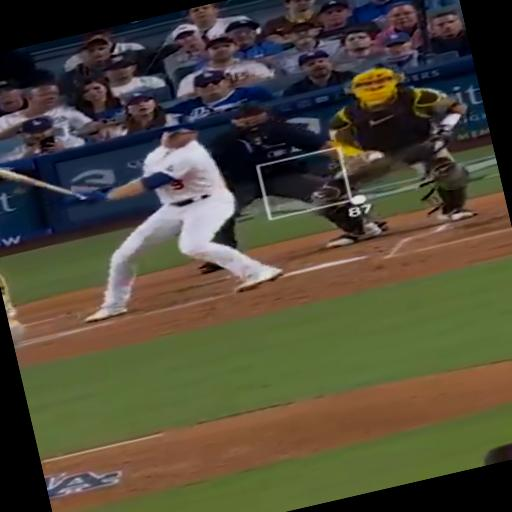bat: (0, 167, 85, 199)
